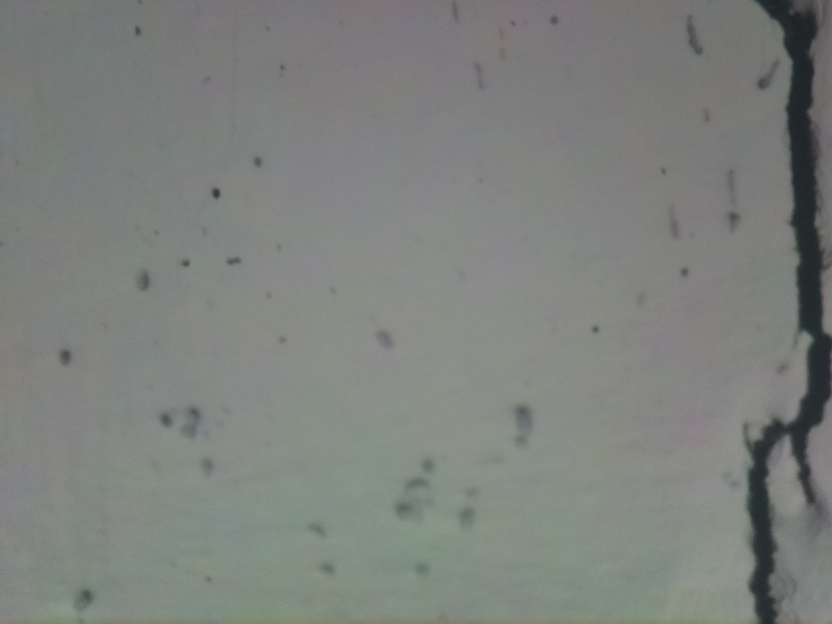crack: (745, 0, 832, 624)
